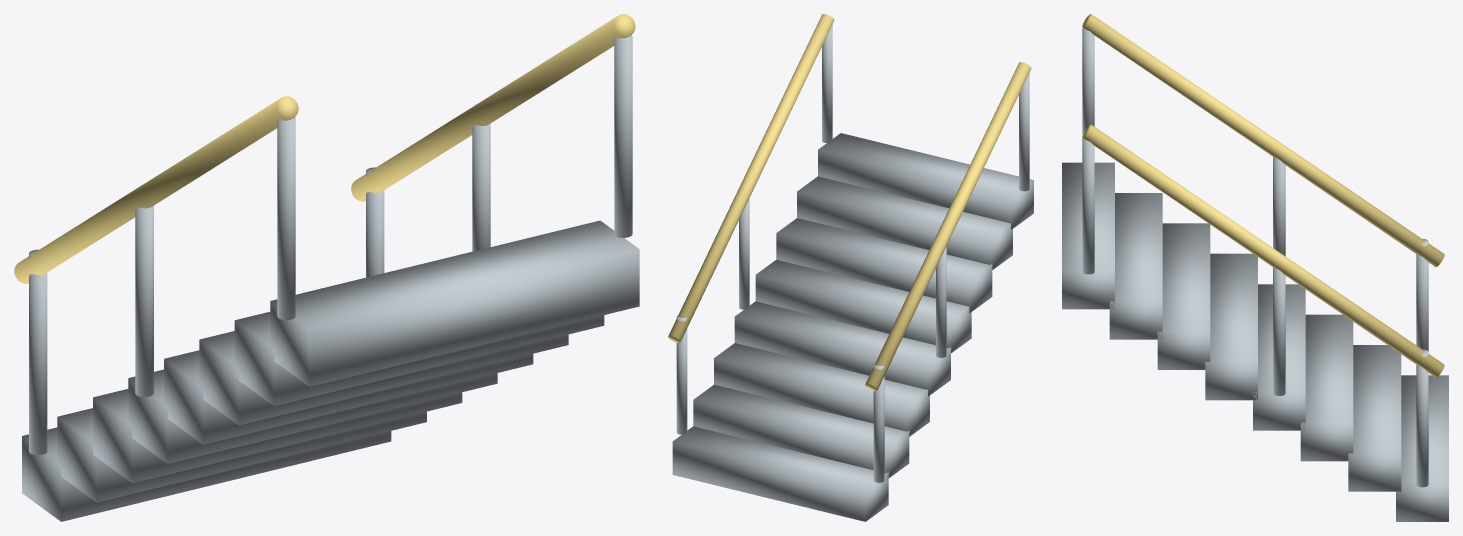
Rendered from stairs_ultra.glb.
3 views of the same model, side by side, from view 1: azimuth 30°, elevation 25°; view 2: azimuth 150°, elevation 25°; view 3: azimuth 270°, elevation 25° (orthographic). The views are drawn at different scales.
Parts seen in each view (by area): view 1: Steps_steel, Railing_steel, Railing_yellow; view 2: Steps_steel, Railing_yellow, Railing_steel; view 3: Steps_steel, Railing_yellow, Railing_steel.
Part boxes in pixels (box(x1,y1,x2,y2)): Steps_steel: box(22, 220, 639, 521); Railing_steel: box(29, 35, 632, 454); Railing_yellow: box(14, 14, 635, 283); Steps_steel: box(672, 133, 1033, 521); Railing_yellow: box(668, 14, 1031, 390); Railing_steel: box(676, 25, 1029, 482); Steps_steel: box(1062, 162, 1448, 521); Railing_yellow: box(1082, 14, 1444, 377); Railing_steel: box(1082, 28, 1428, 487).
Bounding box in the file's own units: 1.57 × 2.49 × 2.19.
